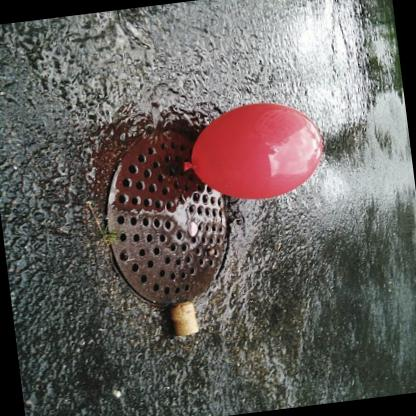manholes: (90, 94, 269, 333)
